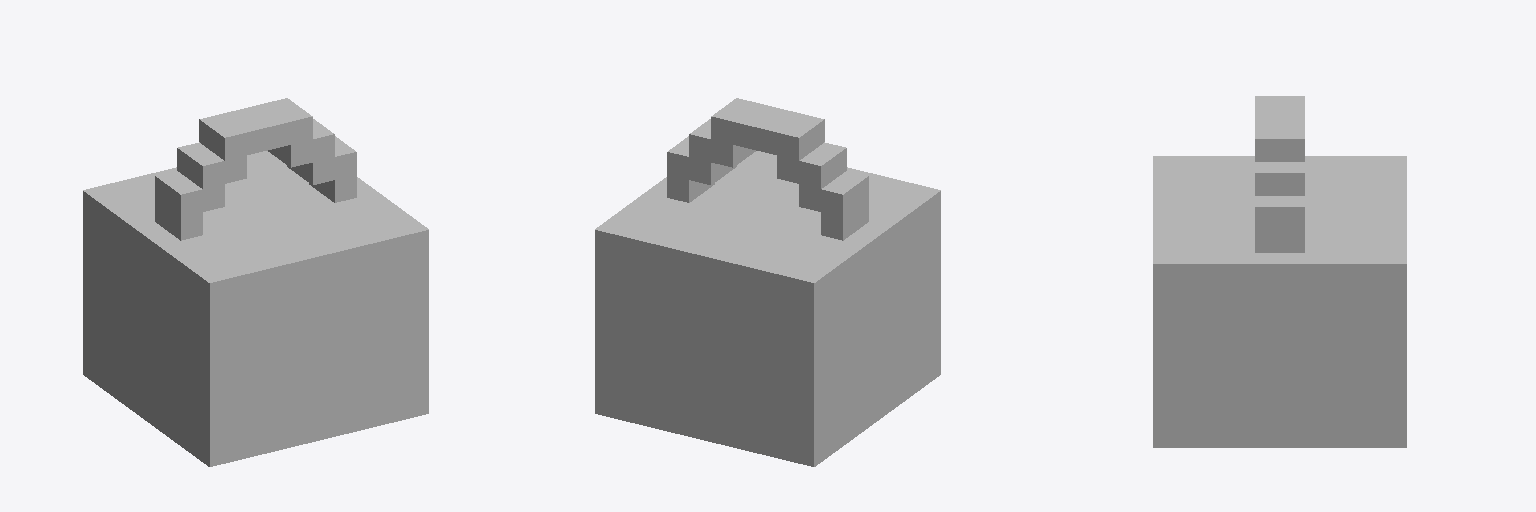
File: health pack.obj
3 renders of one model, left to right at view 1: azimuth 30°, elevation 25°; view 2: azimuth 150°, elevation 25°; view 3: azimuth 270°, elevation 25°, orthographic.
Parts seen in each view (by area): view 1: object 1; view 2: object 1; view 3: object 1.
Part boxes in pixels (left/top/right/bottom): object 1: left=83, top=98, right=428, bottom=466; object 1: left=595, top=98, right=940, bottom=466; object 1: left=1153, top=96, right=1406, bottom=447.
Bounding box in the file's own units: 1 × 1.2 × 1.